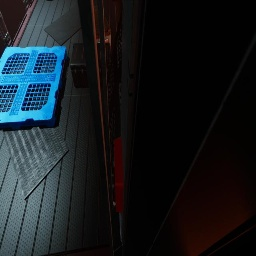FireAlarm ,: (114, 136, 124, 214)
FirstAidBox ,: (79, 10, 80, 18)
